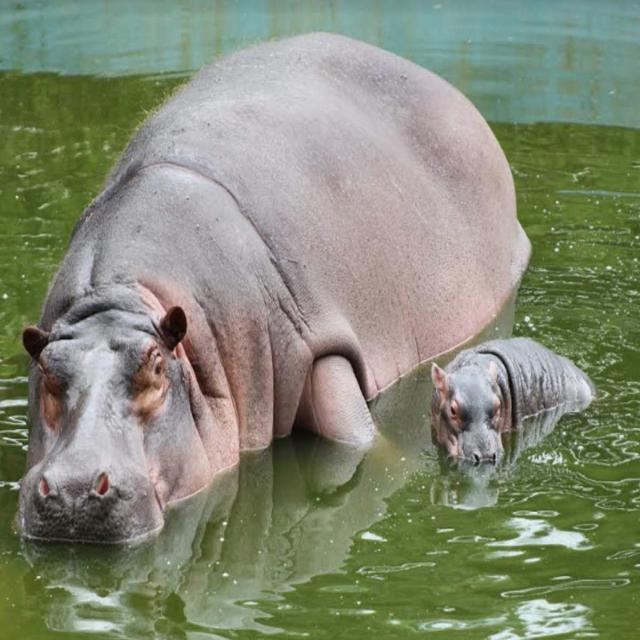hippopotamus: (18, 33, 531, 543), (430, 337, 596, 465)
